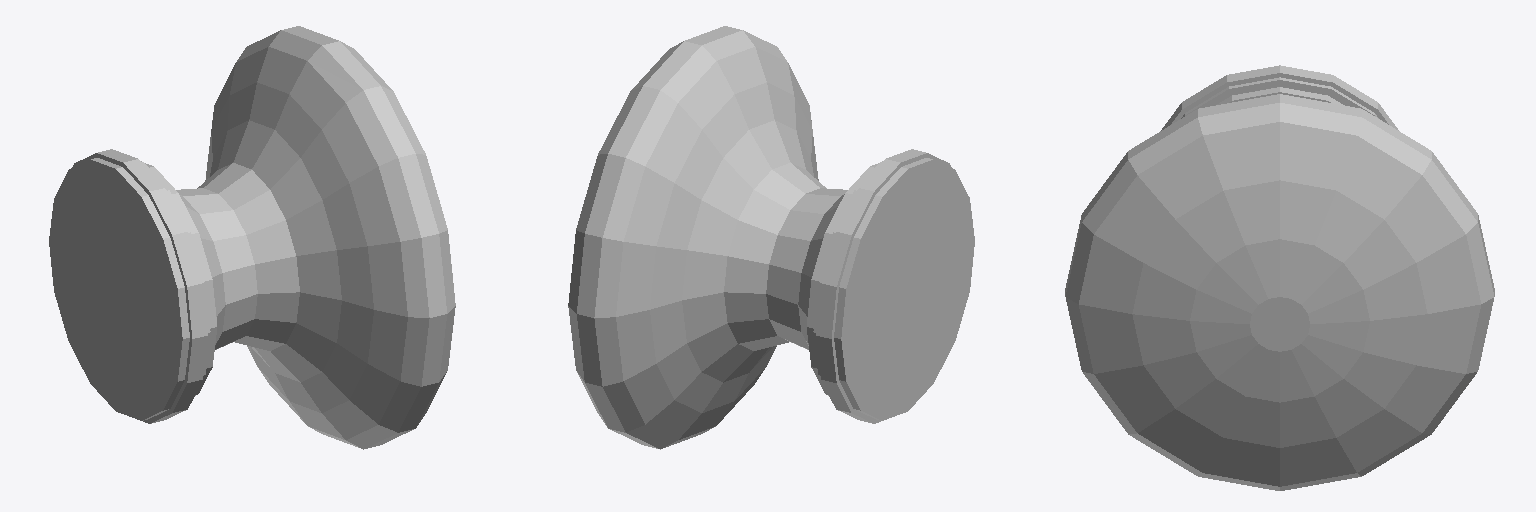
The model's file is knob.obj.
The picture shows the model from 3 angles: view 1: azimuth 30°, elevation 25°; view 2: azimuth 150°, elevation 25°; view 3: azimuth 270°, elevation 25°; orthographic projection.
Size of the model in its own units: 0.0524 by 0.0694 by 0.0694.